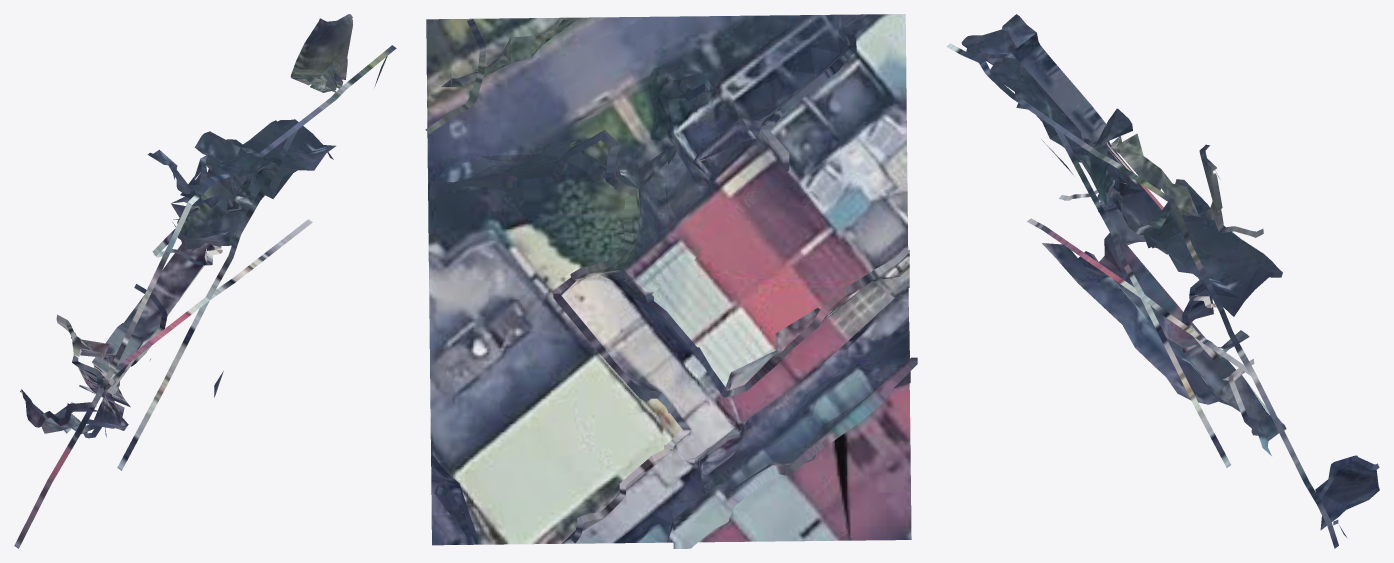
3 renders of one model, left to right at view 1: azimuth 30°, elevation 25°; view 2: azimuth 150°, elevation 25°; view 3: azimuth 270°, elevation 25°, orthographic. The views are drawn at different scales.
Size of the model in its own units: 38.4 by 37.29 by 35.
2 materials, 2 textured.
